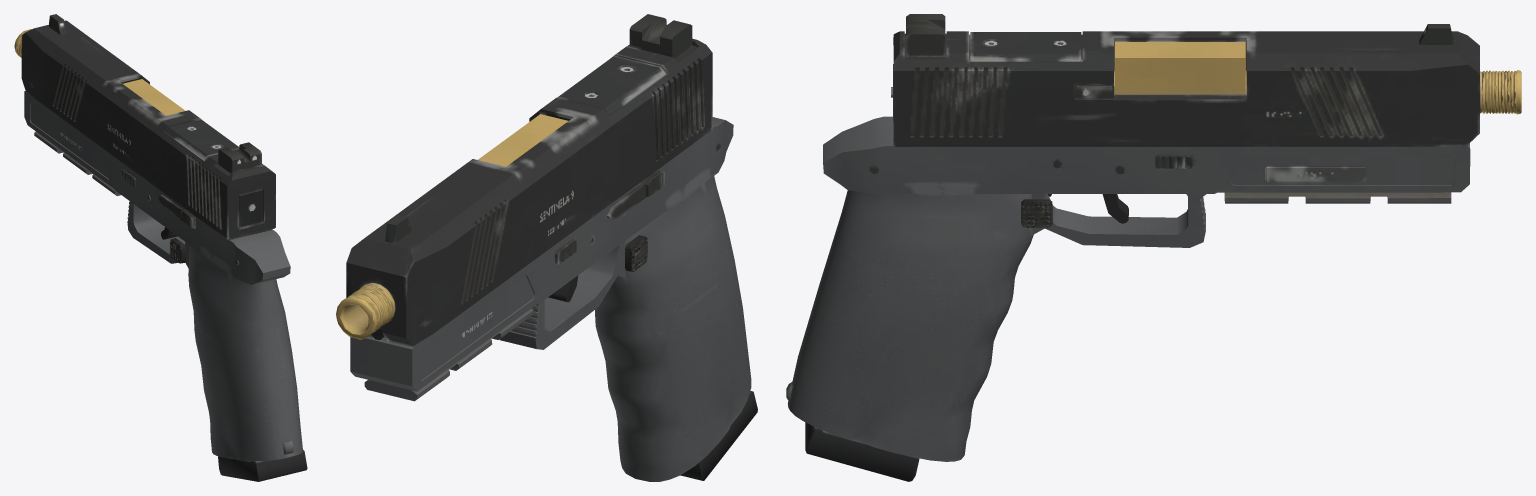
File: pistola_9mm_cinza_leve.glb
3 renders of one model, left to right at view 1: azimuth 30°, elevation 25°; view 2: azimuth 150°, elevation 25°; view 3: azimuth 270°, elevation 25°, orthographic. The views are drawn at different scales.
Visible parts, largest first — view 1: pistola_9mm_cinza_leve; view 2: pistola_9mm_cinza_leve; view 3: pistola_9mm_cinza_leve.
Part boxes in pixels (bbox=[...]): pistola_9mm_cinza_leve: bbox=[14, 14, 307, 481]; pistola_9mm_cinza_leve: bbox=[336, 14, 757, 481]; pistola_9mm_cinza_leve: bbox=[786, 14, 1521, 481].
Bounding box in the file's own units: 0.031 × 0.1545 × 0.2332.
Materials: 1 (1 with a texture image).
